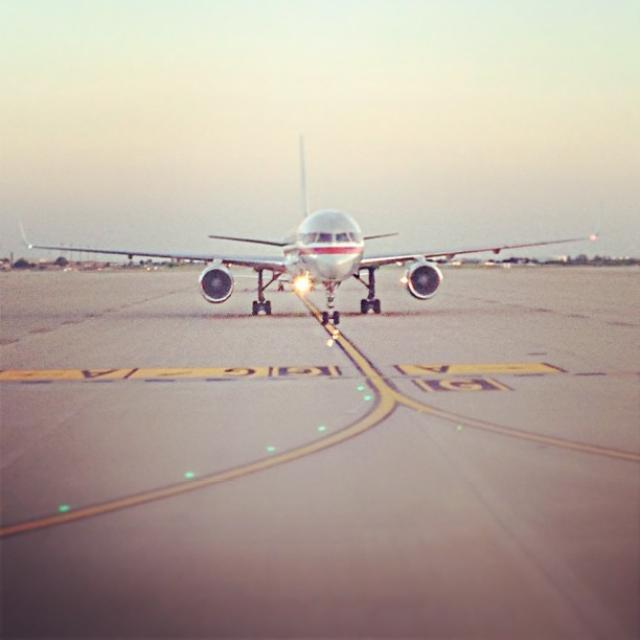airplane: (22, 135, 608, 329)
